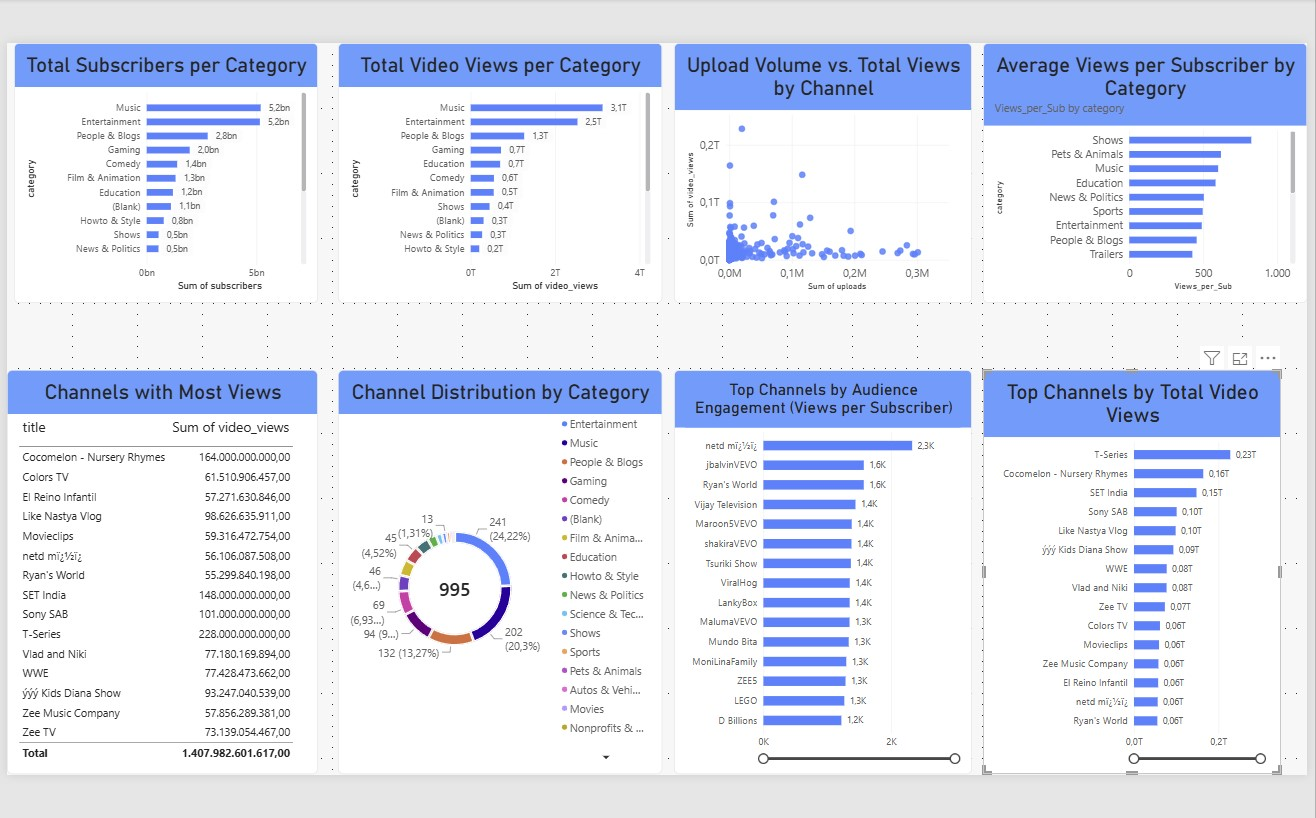

The page's visual inventory and layout, read from the dashboard file:
{"tool":"powerbi","page":{"name":"Page 1","canvas":[1920,1080],"ordinal":0},"visuals":[{"type":"clusteredBarChart","title":"Total Subscribers per Category","fields":{"Category":["public youtube_statistics.category"],"Y":["Sum(public youtube_statistics.subscribers)"]},"box":[10.3,0,449,384],"z":0},{"type":"clusteredBarChart","title":"Total Video Views per Category","fields":{"Category":["public youtube_statistics.category"],"Y":["Sum(public youtube_statistics.video_views)"]},"box":[488.9,0,478.5,384],"z":1000},{"type":"scatterChart","title":"Upload Volume vs. Total Views by Channel","fields":{"Category":["public youtube_statistics.title"],"X":["Sum(public youtube_statistics.uploads)"],"Y":["Sum(public youtube_statistics.video_views)"]},"box":[985.1,0,440.1,384],"z":2000},{"type":"tableEx","title":"Channels with Most Views","fields":{"Values":["public youtube_statistics.title","Sum(public youtube_statistics.video_views)"]},"box":[0,483,459.3,596.7],"z":3000},{"type":"donutChart","title":"Channel Distribution by Category","fields":{"Category":["public youtube_statistics.category"],"Y":["CountNonNull(public youtube_statistics.title)"]},"box":[488.9,483,479,597],"z":4000},{"type":"clusteredBarChart","title":"Average Views per Subscriber by Category","fields":{"Category":["public youtube_statistics.category"],"Y":["public youtube_statistics.Views_per_Sub"]},"box":[1441.5,0,478.5,384],"z":5000},{"type":"clusteredBarChart","title":"Top Channels by Audience Engagement (Views per Subscriber)","fields":{"Category":["public youtube_statistics.title"],"Y":["public youtube_statistics.Views_per_Sub"]},"box":[985.1,483,440.1,596.7],"z":6000},{"type":"clusteredBarChart","title":"Top Channels by Total Video Views","fields":{"Category":["public youtube_statistics.title"],"Y":["Sum(public youtube_statistics.video_views)"]},"box":[1441.5,483,440.1,596.7],"z":6001}]}

Visuals, with their boxes on the page's 1920x1080 design canvas (x1, y1, x2, y2). These are canvas units, not pixel positions in the 1316x818 screenshot, which may show the page scaled, cropped or inside an application window:
"Total Subscribers per Category" clusteredBarChart: 10 0 459 384
"Total Video Views per Category" clusteredBarChart: 489 0 967 384
"Upload Volume vs. Total Views by Channel" scatterChart: 985 0 1425 384
"Channels with Most Views" tableEx: 0 483 459 1080
"Channel Distribution by Category" donutChart: 489 483 968 1080
"Average Views per Subscriber by Category" clusteredBarChart: 1442 0 1920 384
"Top Channels by Audience Engagement (Views per Subscriber)" clusteredBarChart: 985 483 1425 1080
"Top Channels by Total Video Views" clusteredBarChart: 1442 483 1882 1080
